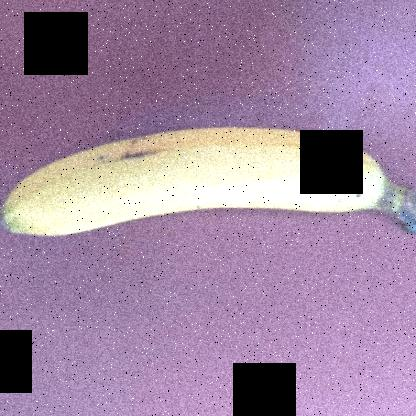freshripe: (17, 93, 415, 245)
